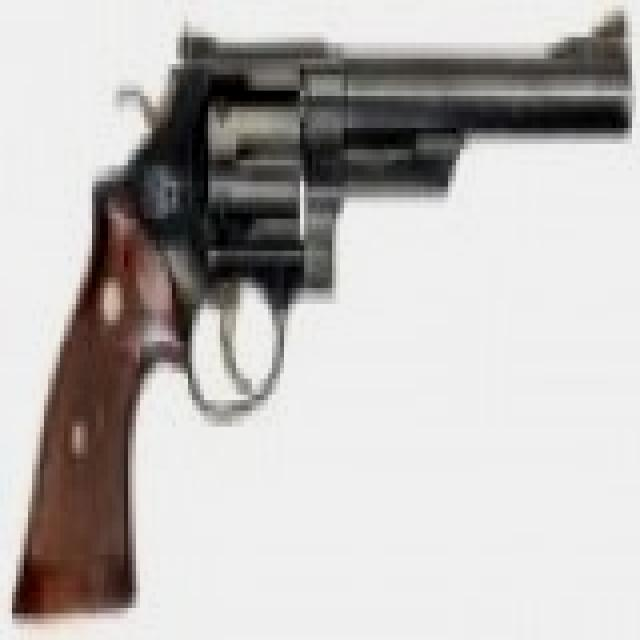pistol: (16, 11, 640, 608)
